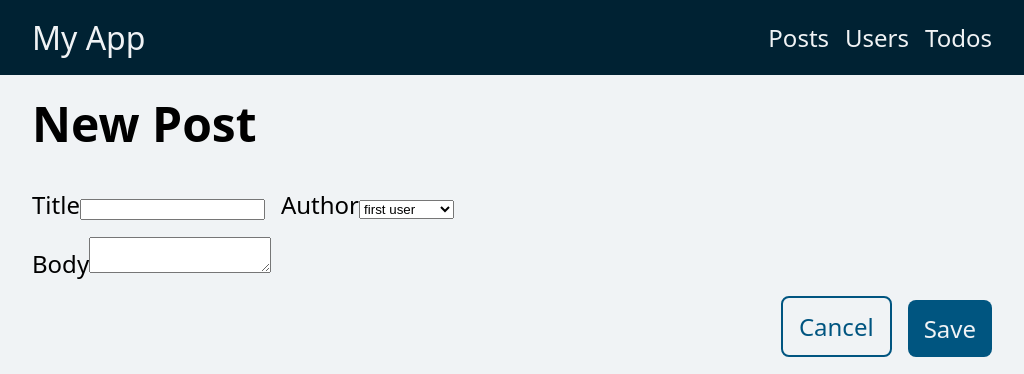
Test: NewPost page › should create a new post with valid input
Type "new post" into the field labelled "Title" at (172, 210), box [80, 199, 265, 220]
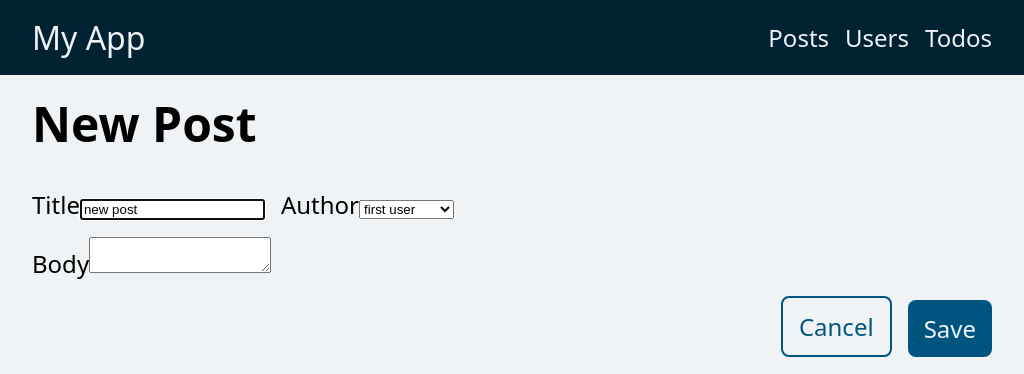
Select "first user" in the dropdown labelled "Author" at (406, 210), box [359, 200, 454, 219]
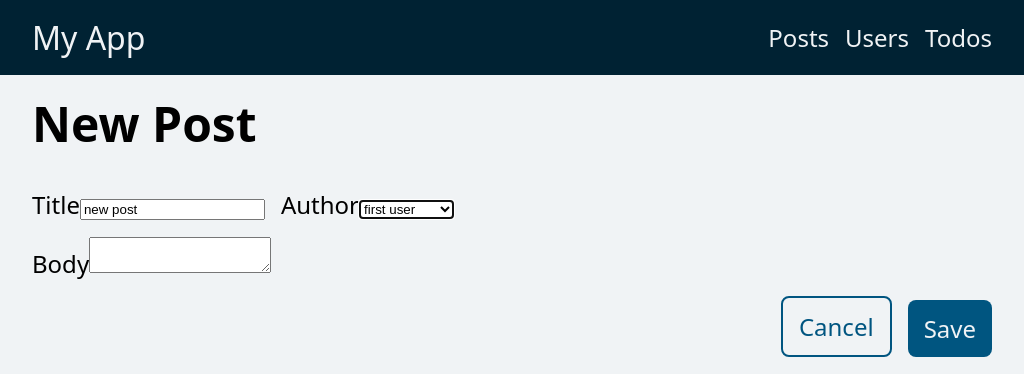
Type "new post body" into the text box labelled "Body" at (180, 255), box [89, 237, 271, 273]
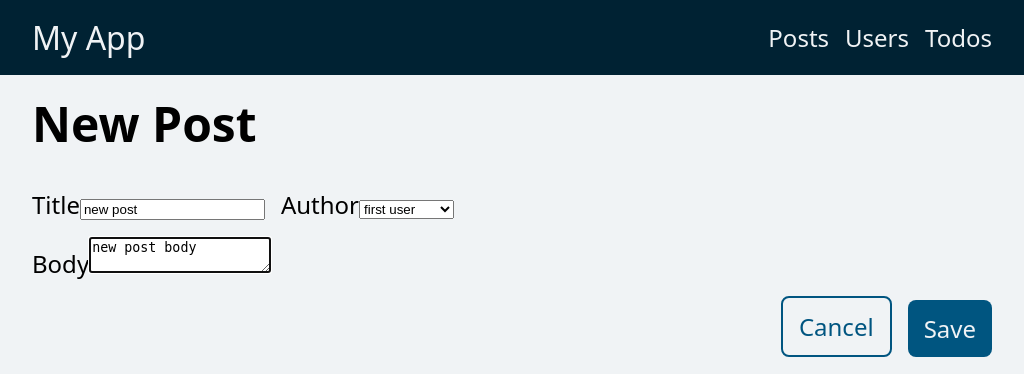
Click the button "Save" at (950, 328), box [908, 300, 992, 357]
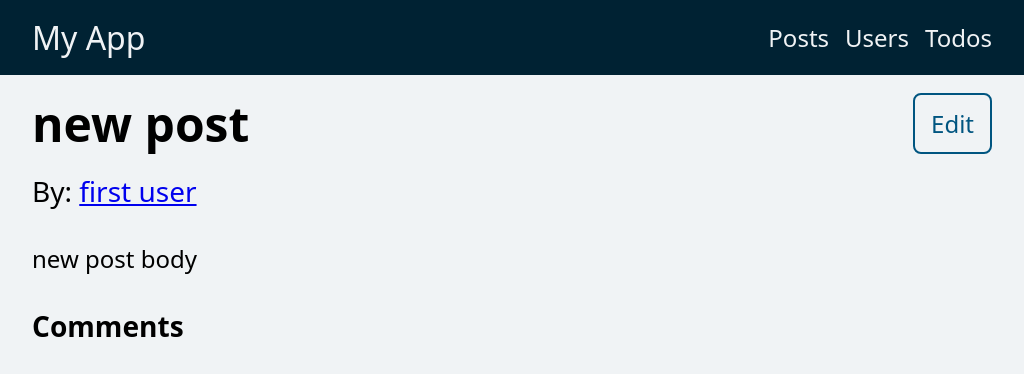
Expected: the heading "new post Edit" is shown, [32, 91, 992, 156]
Expected: the link "first user" is shown, [79, 172, 197, 210]
Expected: the text "new post body" is shown, [32, 242, 197, 275]
